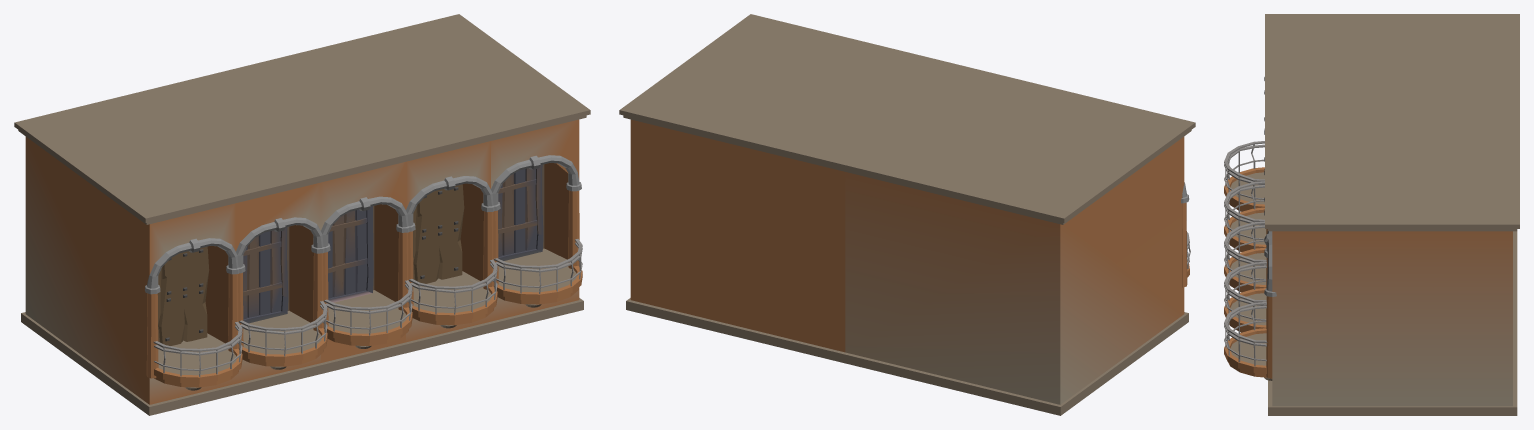
File: SM_Bld_Cuba_Room_Long_05.glb
The picture shows the model from 3 angles, left to right: view 1: azimuth 30°, elevation 25°; view 2: azimuth 150°, elevation 25°; view 3: azimuth 270°, elevation 25°; orthographic projection. The views are drawn at different scales.
Parts seen in each view (by area): view 1: SM_Bld_Cuba_Room_Long_05; view 2: SM_Bld_Cuba_Room_Long_05; view 3: SM_Bld_Cuba_Room_Long_05.
Part boxes in pixels (box(x1,y1,x2,y2)): SM_Bld_Cuba_Room_Long_05: box(14, 14, 590, 415); SM_Bld_Cuba_Room_Long_05: box(619, 14, 1195, 415); SM_Bld_Cuba_Room_Long_05: box(1224, 14, 1519, 415).
Size of the model in its own units: 0.0776 by 0.0333 by 0.0461.
